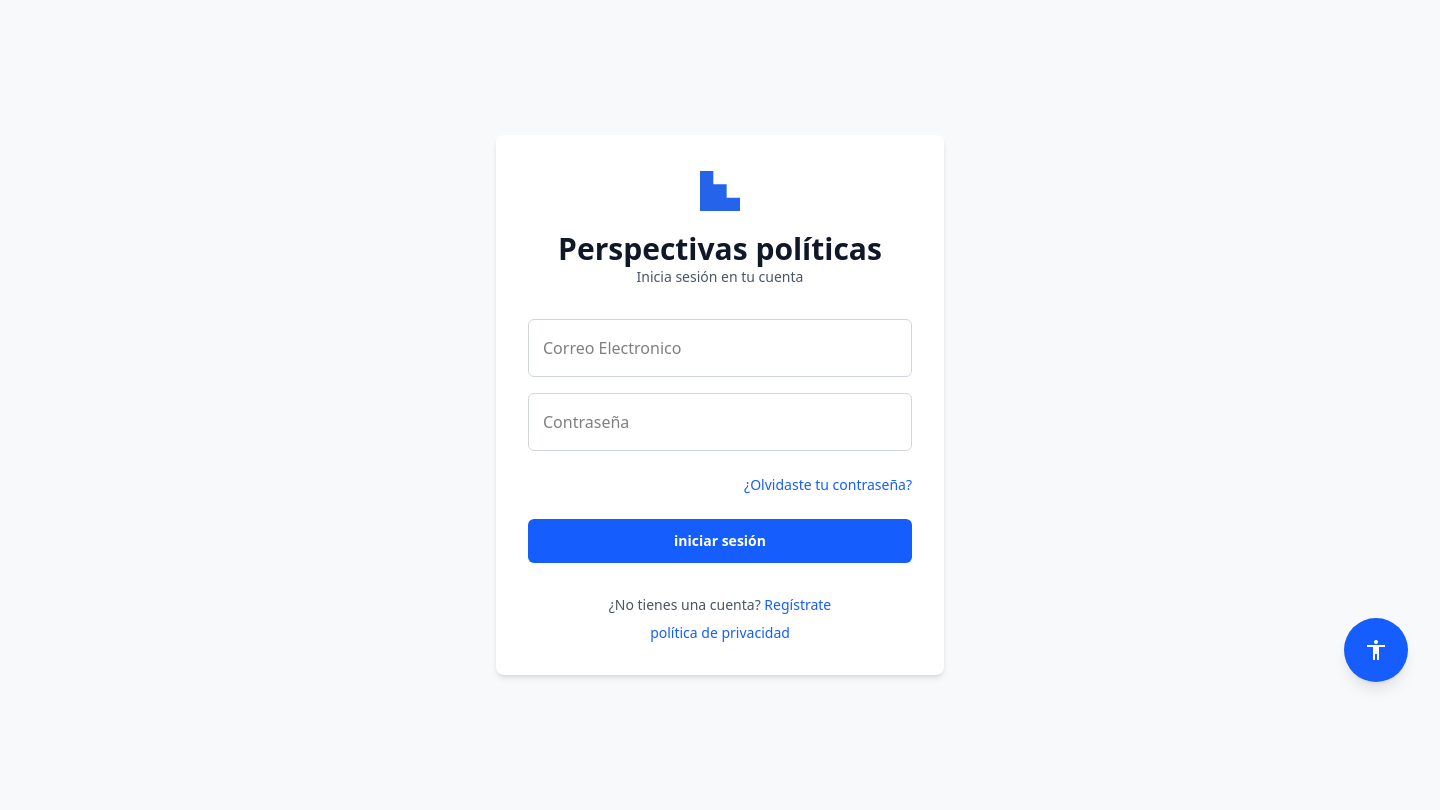
Test: Login Component › redirects to /comparar on successful login
This screenshot has width=1440, height=810.
Type "test@example.com" into the field with placeholder "Correo Electronico" at [720, 348], box [528,319,912,377]
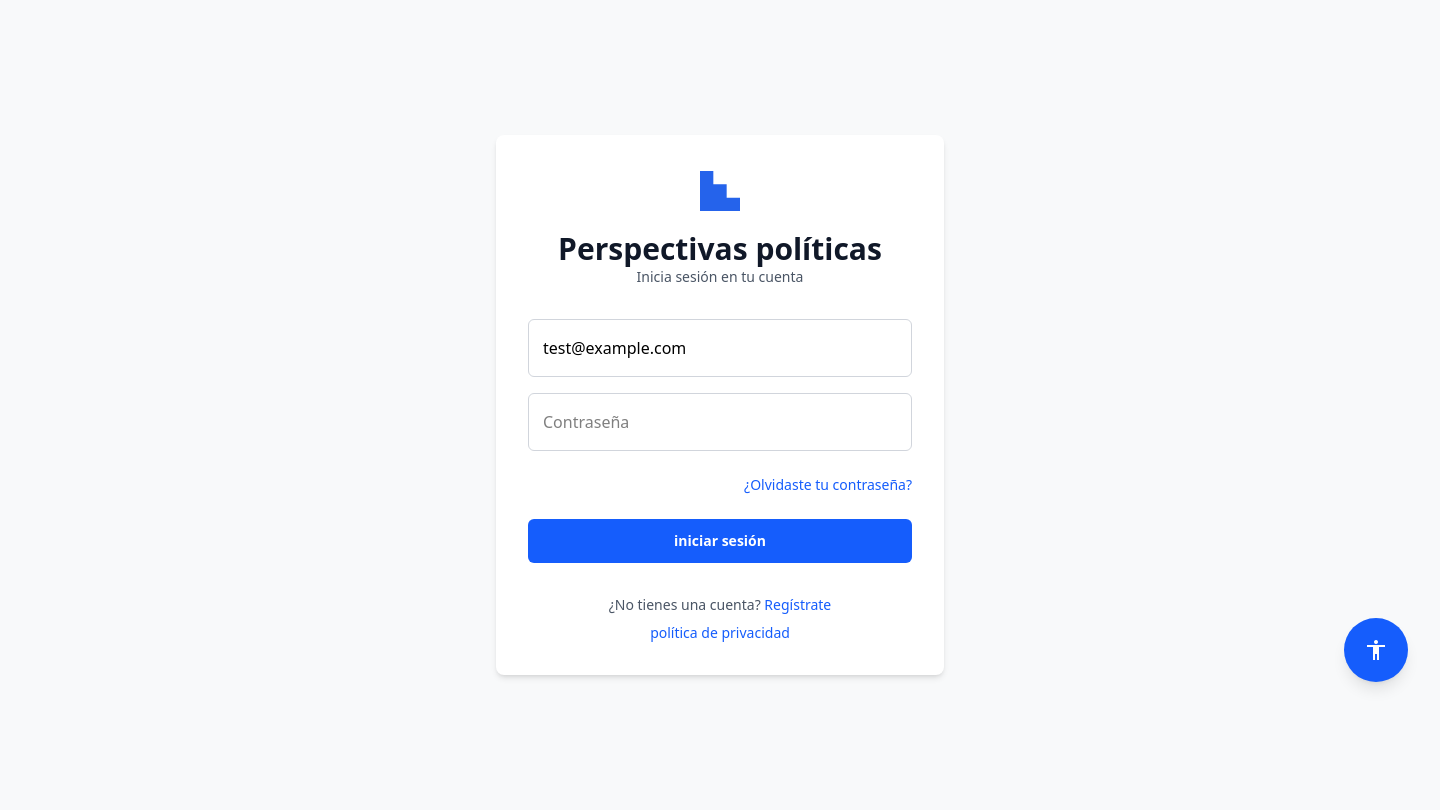
Type "password123" into the password field with placeholder "Contraseña" at [720, 422], box [528,393,912,451]
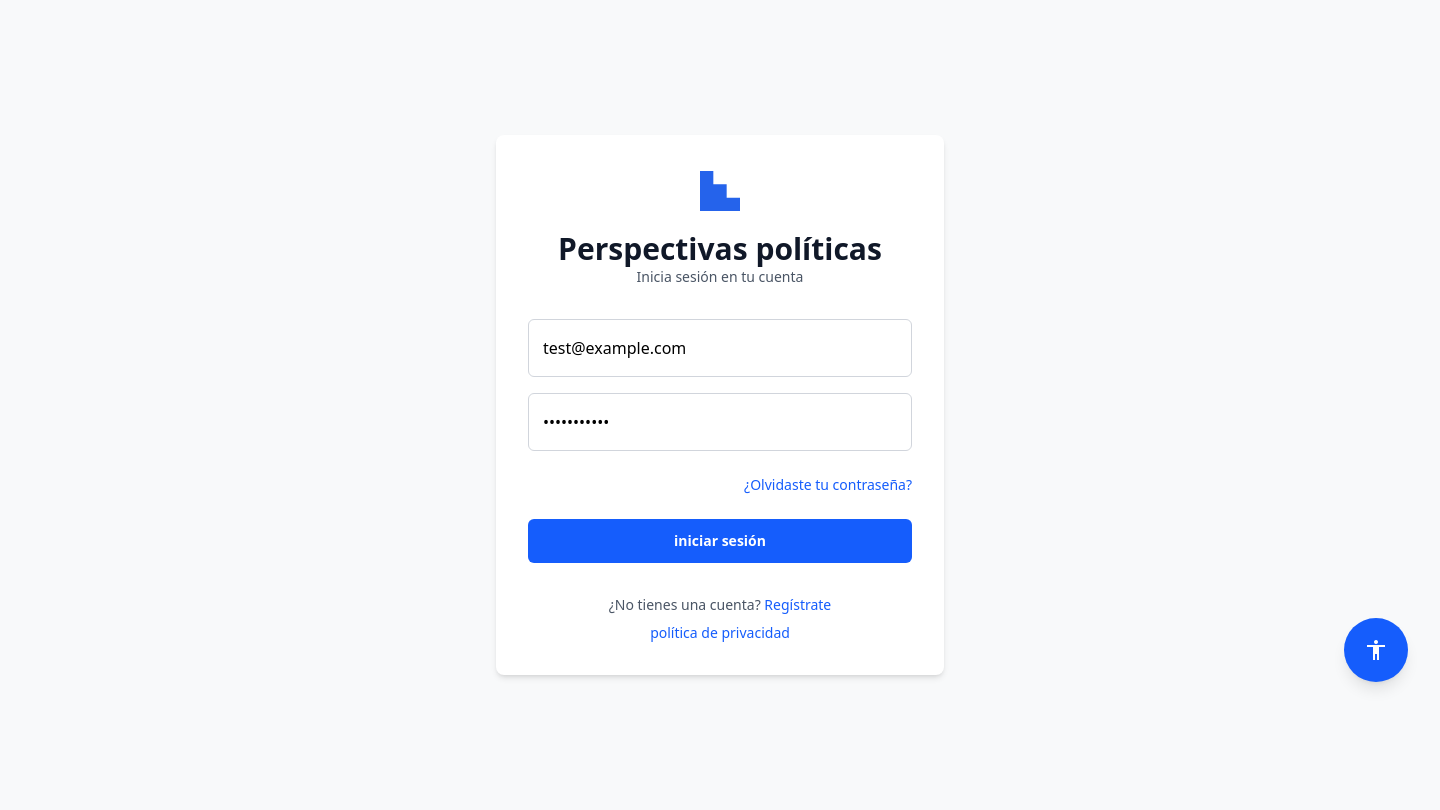
Click the button "iniciar sesión" at [720, 541], box [528,519,912,563]
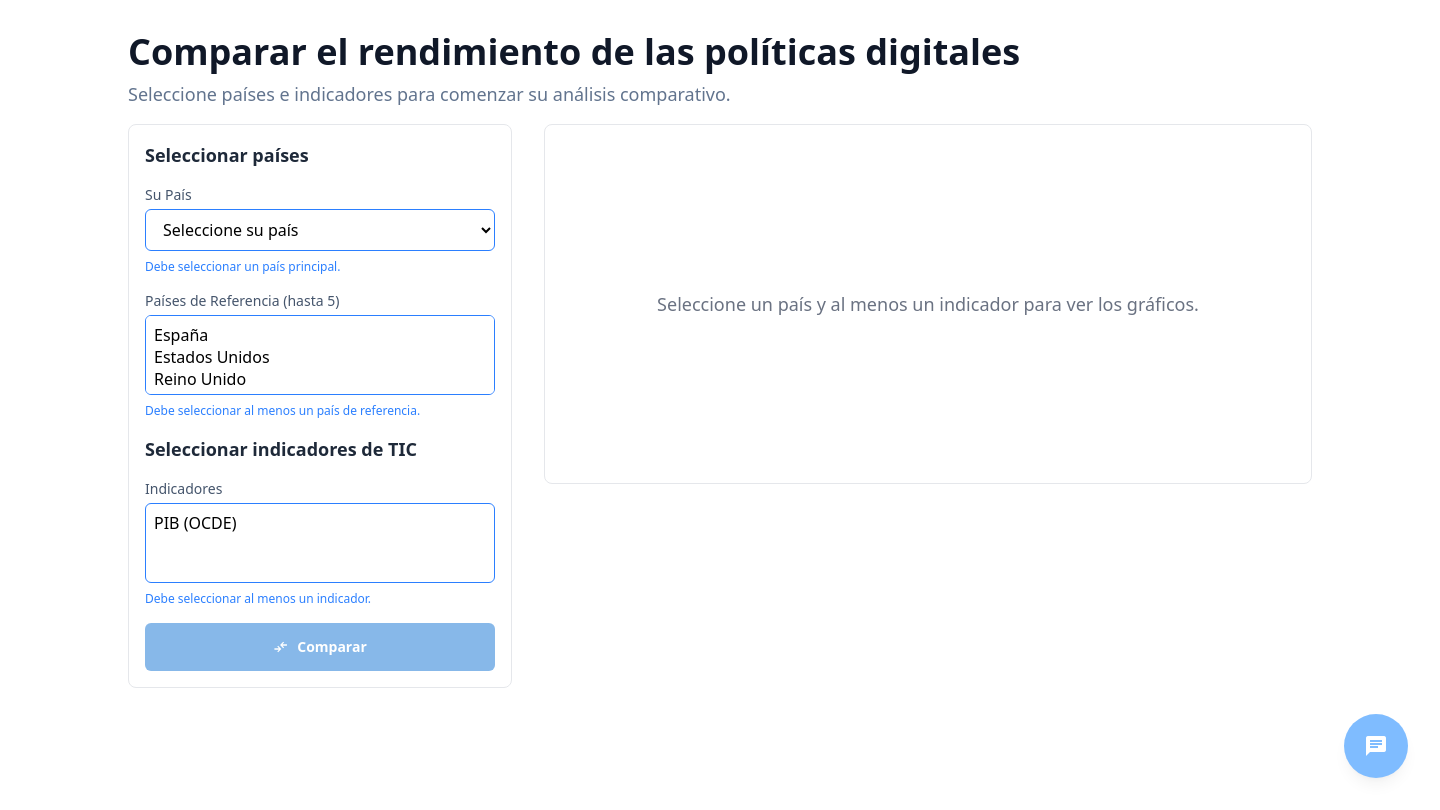
Result: the text "Comparar el rendimiento de las políticas digitales" is shown at [128,27,1020,76]
